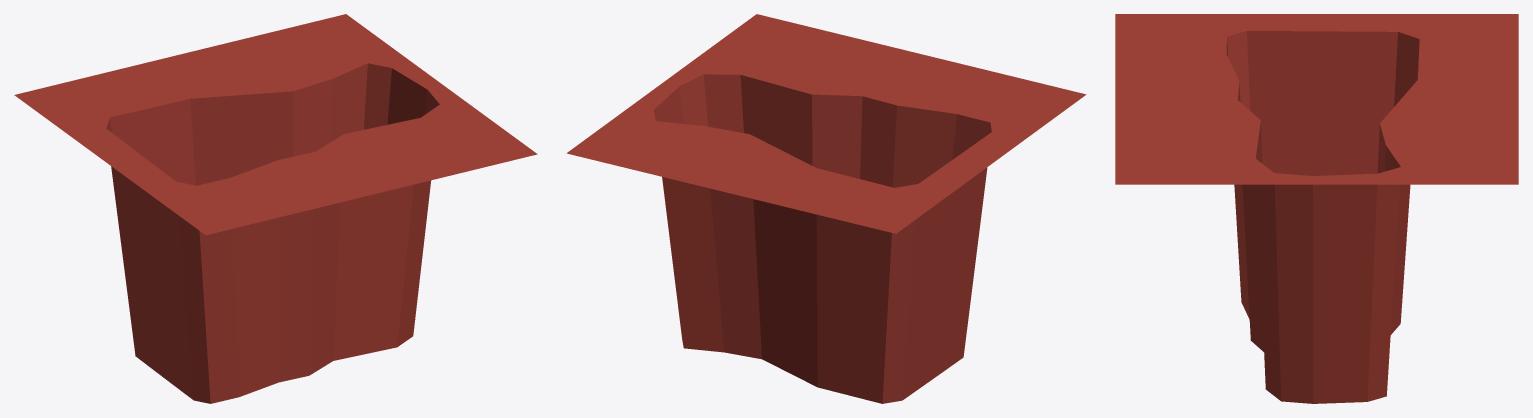
File: Field_15.fbx
3 renders of one model, left to right at view 1: azimuth 30°, elevation 25°; view 2: azimuth 150°, elevation 25°; view 3: azimuth 270°, elevation 25°, orthographic. The views are drawn at different scales.
Visible parts, largest first — view 1: Plane.032; view 2: Plane.032; view 3: Plane.032.
Part boxes in pixels (<box>): Plane.032: <box>14,14,537,403</box>; Plane.032: <box>566,14,1086,403</box>; Plane.032: <box>1115,14,1518,403</box>.
Size of the model in its own units: 400 by 263 by 400.
